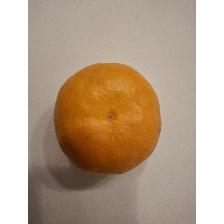Mandarine: (51, 60, 165, 178)
